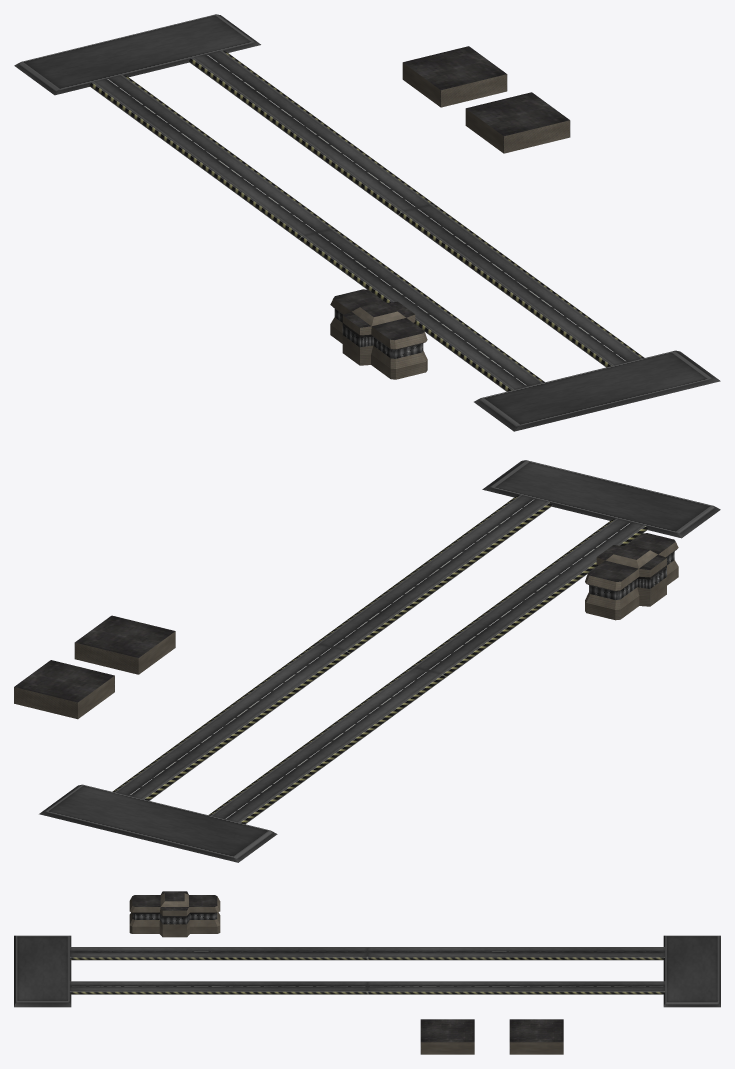
3 views of the same model, one above another, from view 1: azimuth 30°, elevation 25°; view 2: azimuth 150°, elevation 25°; view 3: azimuth 270°, elevation 25° (orthographic). The views are drawn at different scales.
Parts seen in each view (by area): view 1: Base3; view 2: Base3; view 3: Base3.
Boxes of the visible parts, x1,y1,x2,y2 form: Base3: [14, 14, 720, 431]; Base3: [14, 460, 720, 862]; Base3: [14, 891, 720, 1054].
Bounding box in the file's own units: 759 × 82.34 × 1672.
